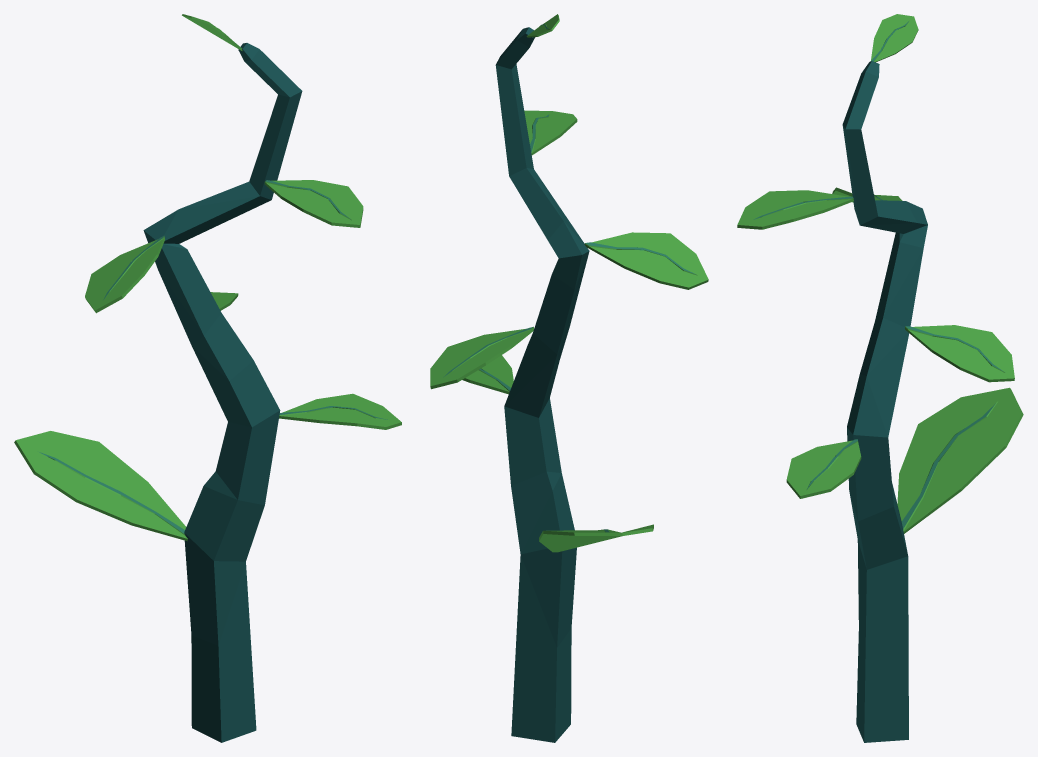
File: mealwood.fbx
3 renders of one model, left to right at view 1: azimuth 30°, elevation 25°; view 2: azimuth 150°, elevation 25°; view 3: azimuth 270°, elevation 25°, orthographic. The views are drawn at different scales.
Parts seen in each view (by area): view 1: mealwood; view 2: mealwood; view 3: mealwood.
Boxes of the visible parts, <box> form: mealwood: <box>14,14,401,742</box>; mealwood: <box>430,14,708,742</box>; mealwood: <box>737,14,1023,742</box>.
Bounding box in the file's own units: 48.45 × 115 × 42.37.
